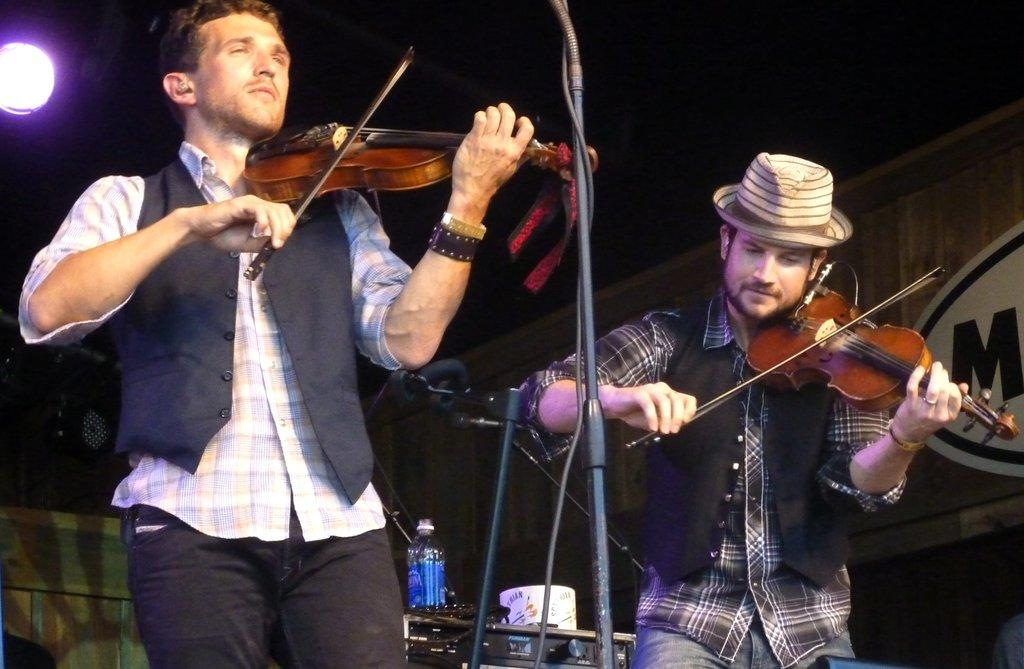Hat: (712, 148, 856, 250)
